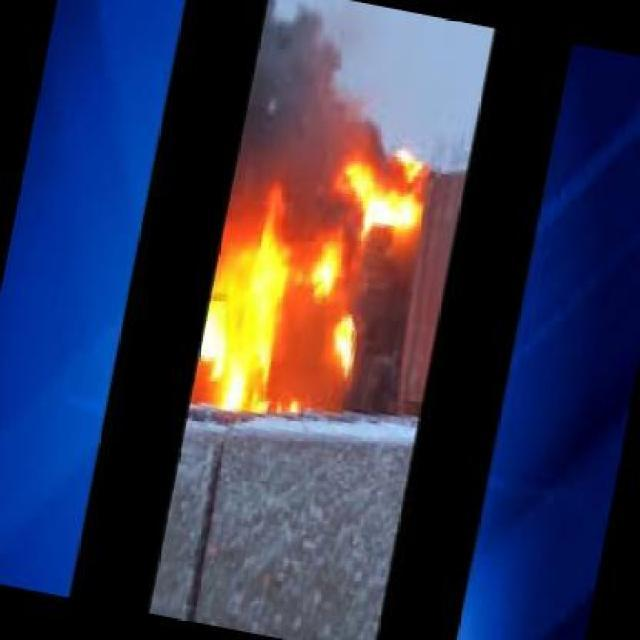Fire: (206, 202, 292, 410), (343, 171, 423, 251), (305, 235, 347, 299), (326, 310, 367, 370)
Smoke: (232, 21, 388, 158)
